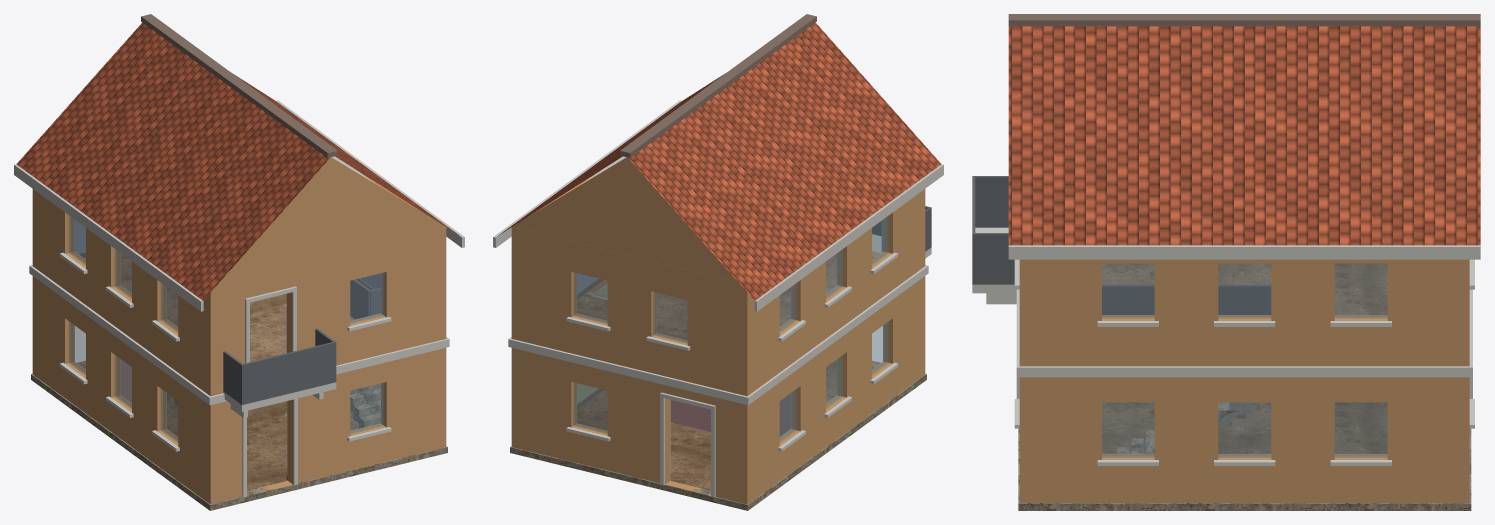
Rendered from cove-house-orange.coast-v2.lod0.glb.
3 views of the same model, side by side, from view 1: azimuth 30°, elevation 25°; view 2: azimuth 150°, elevation 25°; view 3: azimuth 270°, elevation 25° (orthographic). The views are drawn at different scales.
Visible parts, largest first — view 1: cove-house-orange; view 2: cove-house-orange; view 3: cove-house-orange.
Boxes of the visible parts, box(x1,y1,x2,y2) form: cove-house-orange: box(14, 14, 464, 510); cove-house-orange: box(493, 14, 943, 510); cove-house-orange: box(972, 14, 1480, 510).
Bounding box in the file's own units: 7.28 × 8.77 × 9.61.
Materials: 5 (3 with a texture image).
